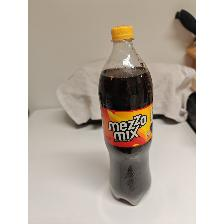Soda: (97, 24, 155, 208)
